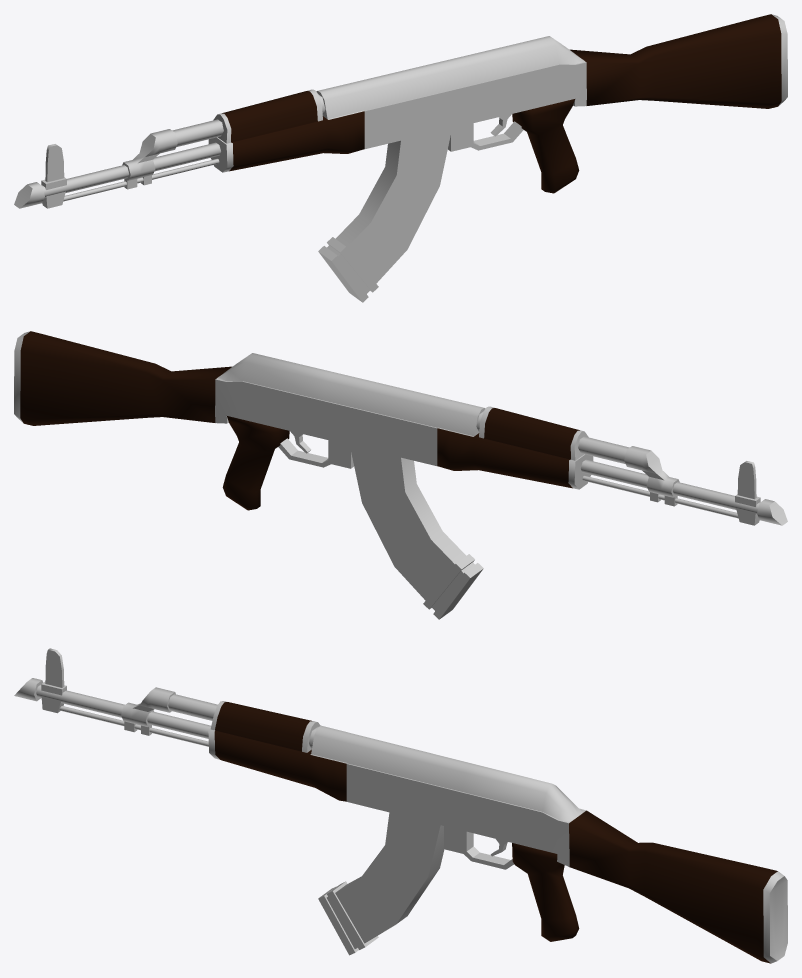
The picture shows the model from 3 angles, top to bottom: view 1: azimuth 30°, elevation 25°; view 2: azimuth 150°, elevation 25°; view 3: azimuth 330°, elevation 25°; orthographic projection.
Parts seen in each view (by area): view 1: M_Ak47; view 2: M_Ak47; view 3: M_Ak47.
Part boxes in pixels (x1,y1,x2,y2): M_Ak47: [14, 14, 787, 302]; M_Ak47: [14, 331, 787, 619]; M_Ak47: [14, 648, 787, 963].
Bounding box in the file's own units: 56.94 × 16.13 × 2.36.
